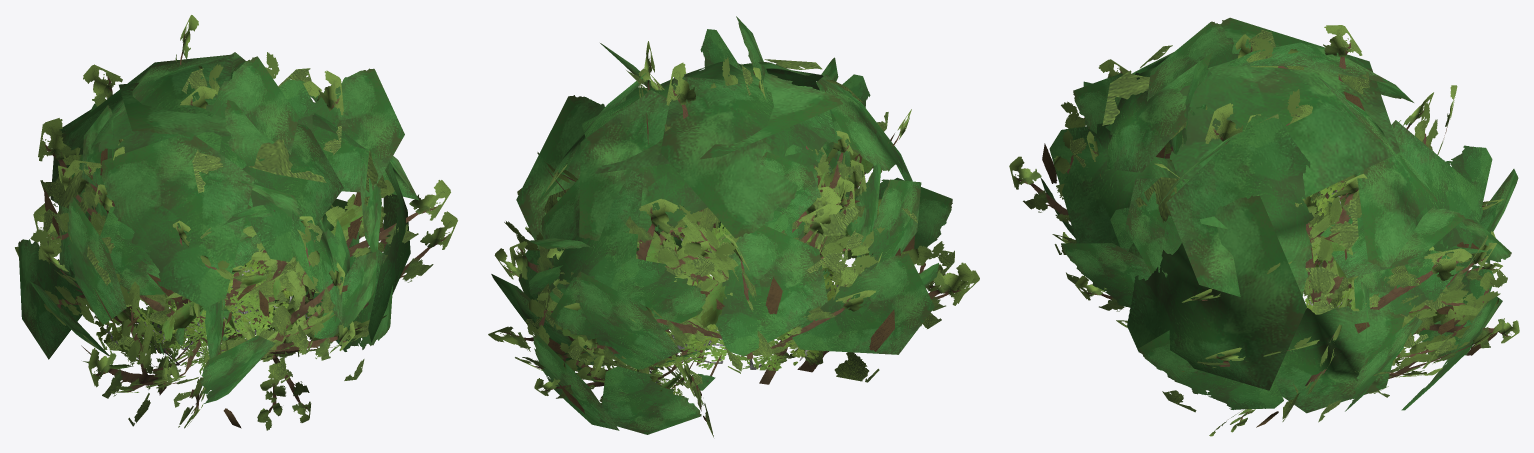
File: Arbre_001B_Feuillage.fbx
3 renders of one model, left to right at view 1: azimuth 30°, elevation 25°; view 2: azimuth 150°, elevation 25°; view 3: azimuth 270°, elevation 25°, orthographic. The views are drawn at different scales.
Visible parts, largest first — view 1: Arbre_001B_Feuillage; view 2: Arbre_001B_Feuillage; view 3: Arbre_001B_Feuillage.
Part boxes in pixels (x1,y1,x2,y2): Arbre_001B_Feuillage: (15,15,457,430); Arbre_001B_Feuillage: (488,16,979,437); Arbre_001B_Feuillage: (1009,17,1519,436).
Bounding box in the file's own units: 8.67 × 7.76 × 8.74.
